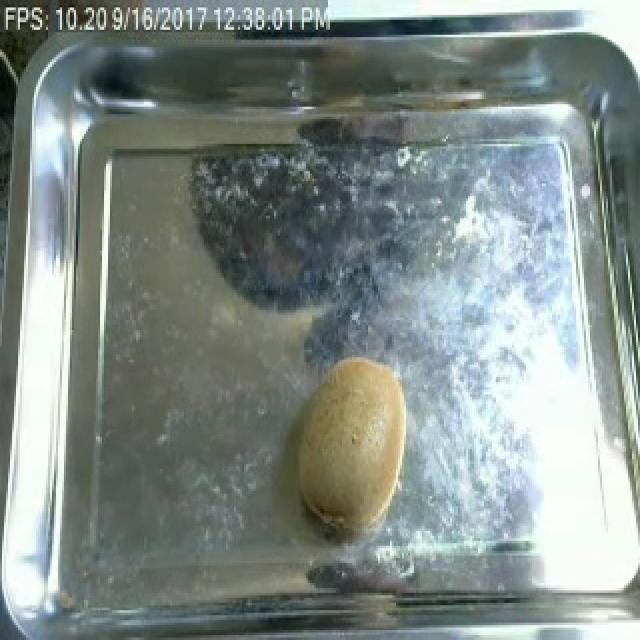Fruit: (288, 345, 418, 538)
